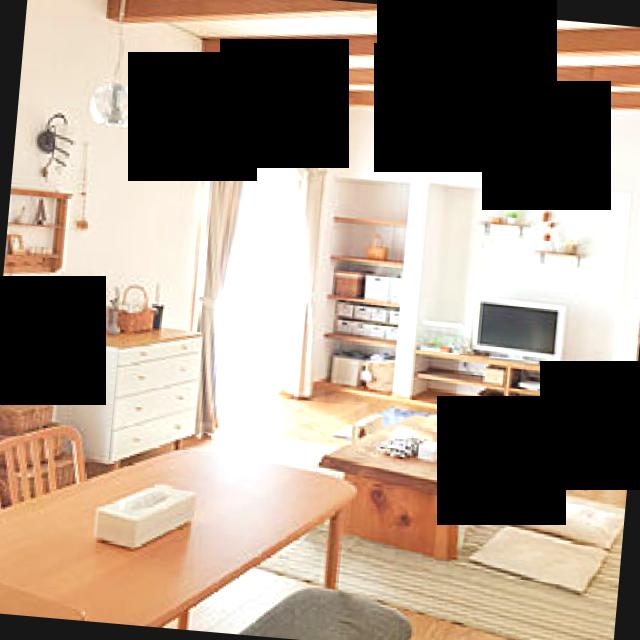natural desk: (0, 423, 357, 640), (322, 393, 512, 520)
natural shelf: (46, 307, 205, 453)
